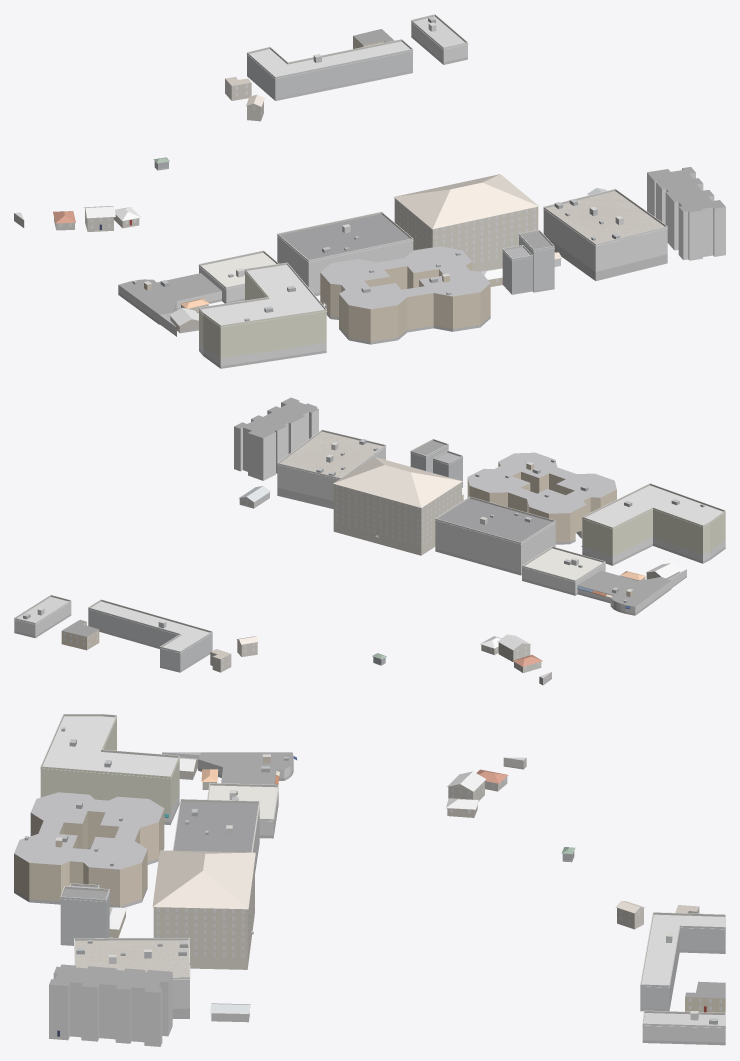
File: bld_-2_1.dae
3 renders of one model, top to bottom at view 1: azimuth 30°, elevation 25°; view 2: azimuth 150°, elevation 25°; view 3: azimuth 270°, elevation 25°, orthographic. The views are drawn at different scales.
Visible parts, largest first — view 1: blda1869; view 2: blda1869; view 3: blda1869.
Part boxes in pixels (x1,y1,x2,y2): blda1869: [14, 14, 725, 368]; blda1869: [14, 397, 725, 685]; blda1869: [14, 714, 725, 1046].
Bounding box in the file's own units: 248 × 266 × 32.38.
